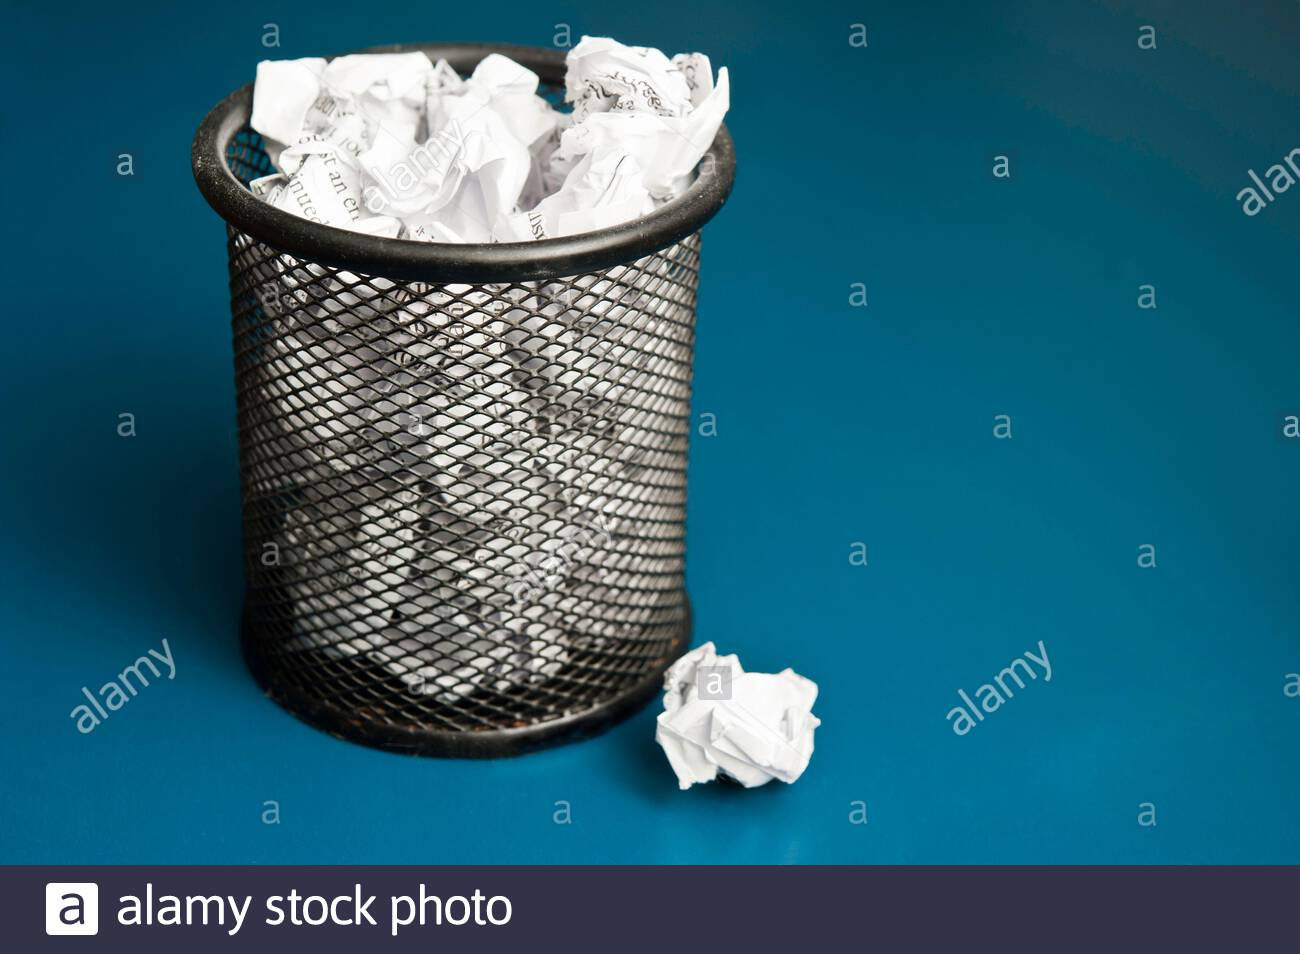paper: (601, 602, 920, 848)
